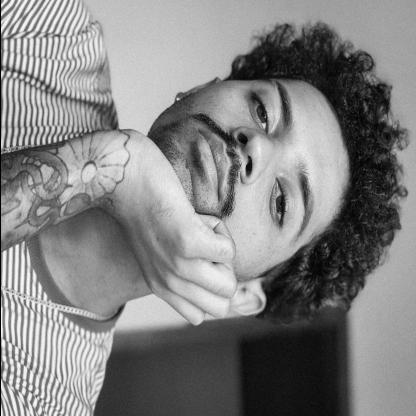Eye: (267, 177, 295, 237), (247, 86, 273, 135)
Mouth: (194, 124, 227, 205)
Nose: (230, 126, 281, 184)
